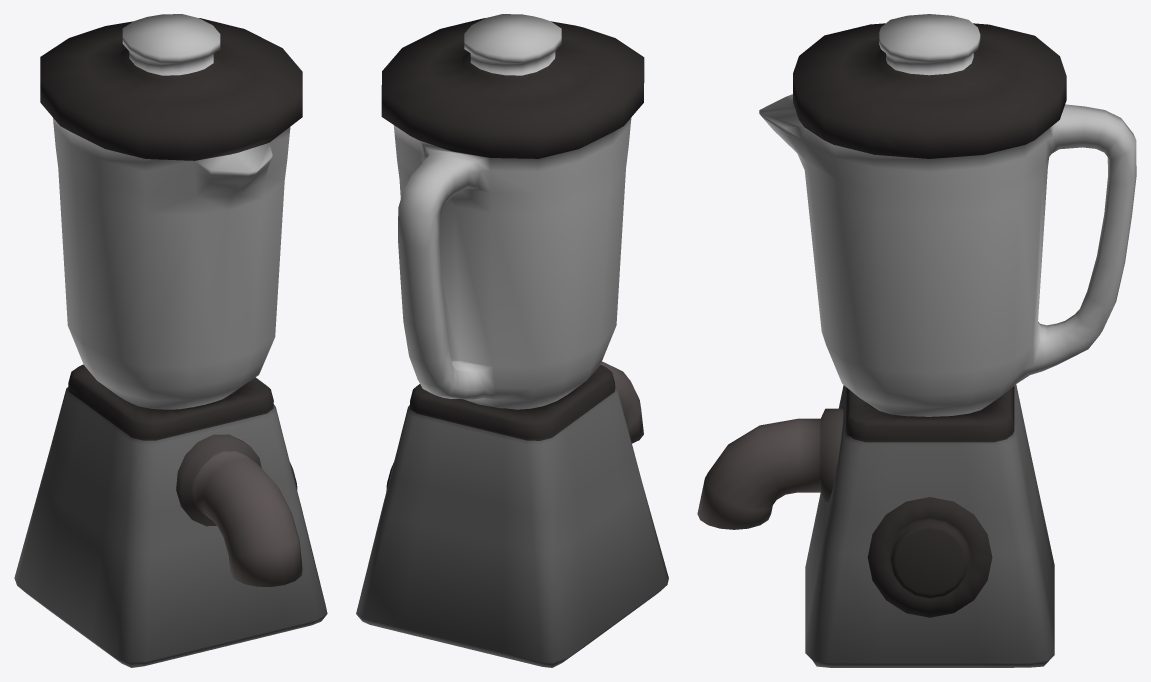
File: SM_Seedblender.fbx
3 views of the same model, side by side, from view 1: azimuth 30°, elevation 25°; view 2: azimuth 150°, elevation 25°; view 3: azimuth 270°, elevation 25° (orthographic). The views are drawn at different scales.
Visible parts, largest first — view 1: Seedblender; view 2: Seedblender; view 3: Seedblender.
Part boxes in pixels (left/top/right/bottom): Seedblender: left=14, top=14, right=327, bottom=667; Seedblender: left=356, top=14, right=668, bottom=667; Seedblender: left=697, top=14, right=1136, bottom=667.
Size of the model in its own units: 29.95 by 73.42 by 49.39.
